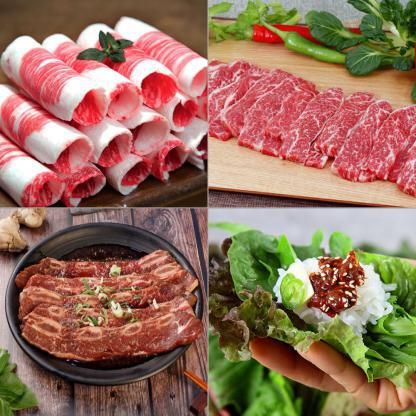beef: (1, 17, 207, 205), (218, 44, 416, 189), (9, 249, 187, 352)
